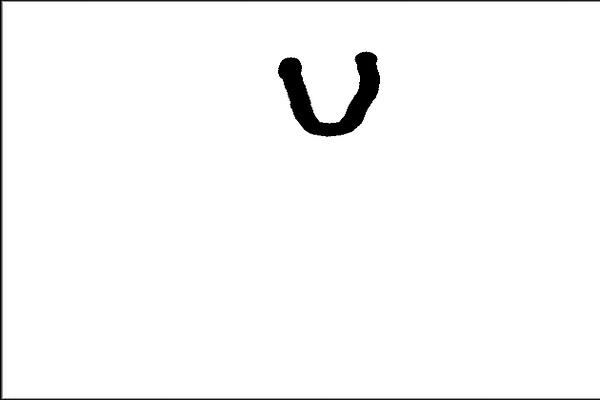U: (269, 47, 394, 144)
